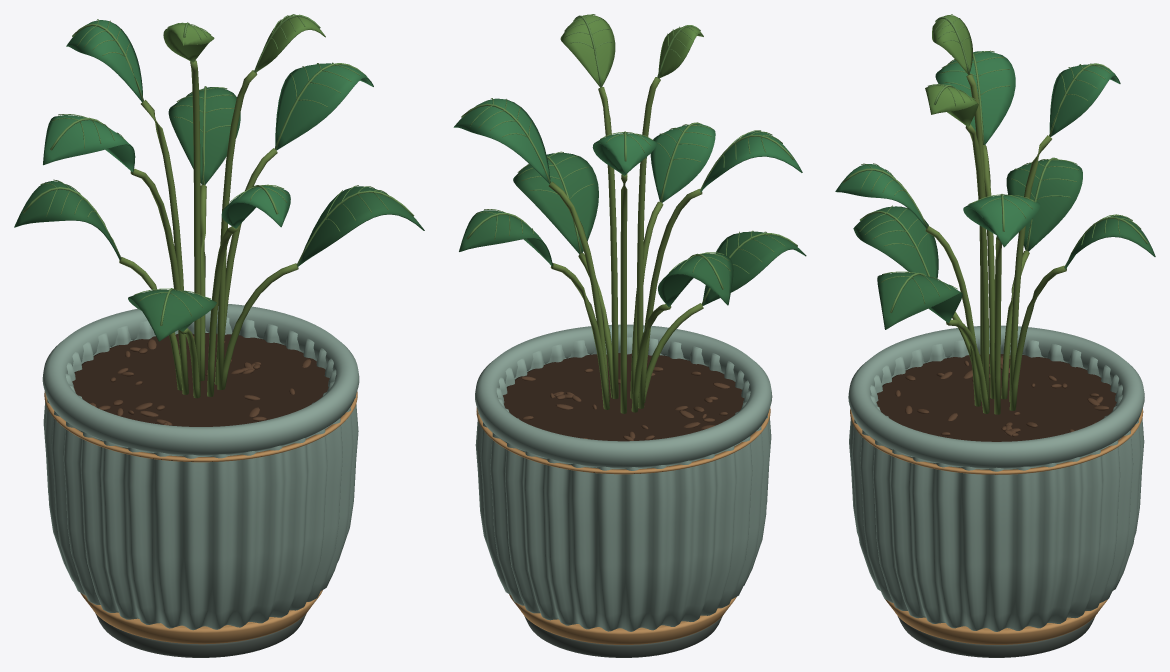
File: plant.glb
3 views of the same model, side by side, from view 1: azimuth 30°, elevation 25°; view 2: azimuth 150°, elevation 25°; view 3: azimuth 270°, elevation 25° (orthographic). The views are drawn at different scales.
Parts seen in each view (by area): view 1: Thirty-two sculpted ceramic flutes, Rolled ceramic lip, Inset soil surface, Sculpted leaf 06, Sculpted leaf 04, Brass ferrule around planter foot, Sculpted leaf 02, Sculpted leaf 07, Recessed ceramic foot, Sculpted leaf 08, Sculpted leaf 01, Sculpted leaf 03 (+14 smaller); view 2: Thirty-two sculpted ceramic flutes, Rolled ceramic lip, Inset soil surface, Sculpted leaf 02, Sculpted leaf 05, Sculpted leaf 06, Brass ferrule around planter foot, Sculpted leaf 01, Recessed ceramic foot, Sculpted leaf 09, Sculpted leaf 03, Sculpted leaf 04 (+15 smaller); view 3: Thirty-two sculpted ceramic flutes, Rolled ceramic lip, Inset soil surface, Sculpted leaf 03, Sculpted leaf 01, Sculpted leaf 07, Sculpted leaf 02, Brass ferrule around planter foot, Sculpted leaf 08, Recessed ceramic foot, Sculpted leaf 06, Sculpted leaf 05 (+14 smaller).
Boxes of the visible parts, x1,y1,x2,y2 form: Thirty-two sculpted ceramic flutes: (43,317,358,630); Rolled ceramic lip: (42,304,359,456); Inset soil surface: (72,333,329,426); Sculpted leaf 06: (275,63,373,150); Sculpted leaf 04: (168,87,240,184); Brass ferrule around planter foot: (80,590,322,644); Sculpted leaf 02: (297,186,424,266); Sculpted leaf 07: (43,115,135,172); Recessed ceramic foot: (95,613,306,657); Sculpted leaf 08: (66,20,142,102); Sculpted leaf 01: (128,289,216,341); Sculpted leaf 03: (14,181,120,260); Thirty-two sculpted ceramic flutes: (475,337,771,631); Rolled ceramic lip: (475,324,772,468); Inset soil surface: (503,353,744,441); Sculpted leaf 02: (513,153,598,254); Sculpted leaf 05: (650,124,715,202); Sculpted leaf 06: (453,98,550,183); Brass ferrule around planter foot: (509,594,736,644); Sculpted leaf 01: (702,231,806,305); Recessed ceramic foot: (524,616,722,657); Sculpted leaf 09: (560,14,615,86); Sculpted leaf 03: (658,253,733,306); Sculpted leaf 04: (459,210,552,266); Thirty-two sculpted ceramic flutes: (849,338,1144,631); Rolled ceramic lip: (848,325,1144,468); Inset soil surface: (876,354,1116,441); Sculpted leaf 03: (1006,160,1082,251); Sculpted leaf 01: (853,206,938,279); Sculpted leaf 07: (935,51,1015,144); Sculpted leaf 02: (877,272,962,329); Brass ferrule around planter foot: (885,599,1107,644); Sculpted leaf 08: (1049,64,1120,136); Recessed ceramic foot: (897,616,1095,657); Sculpted leaf 06: (963,195,1040,247); Sculpted leaf 05: (835,164,926,228).
Size of the model in its own units: 0.7122 by 1.2 by 0.6014.
